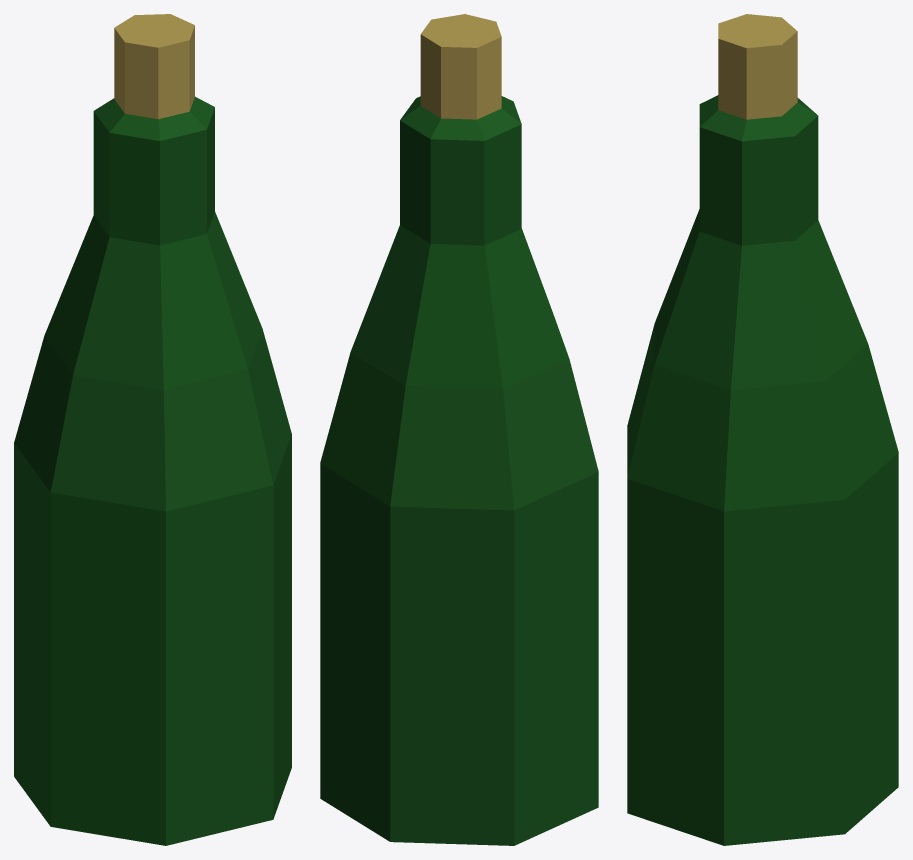
File: butelka.fbx
3 renders of one model, left to right at view 1: azimuth 30°, elevation 25°; view 2: azimuth 150°, elevation 25°; view 3: azimuth 270°, elevation 25°, orthographic.
Parts seen in each view (by area): view 1: Cylinder.001; view 2: Cylinder.001; view 3: Cylinder.001.
Part boxes in pixels (x1=…): Cylinder.001: x1=14, y1=14, x2=291, y2=845; Cylinder.001: x1=320, y1=14, x2=598, y2=845; Cylinder.001: x1=627, y1=14, x2=898, y2=845.
Size of the model in its own units: 195 by 584 by 190.
